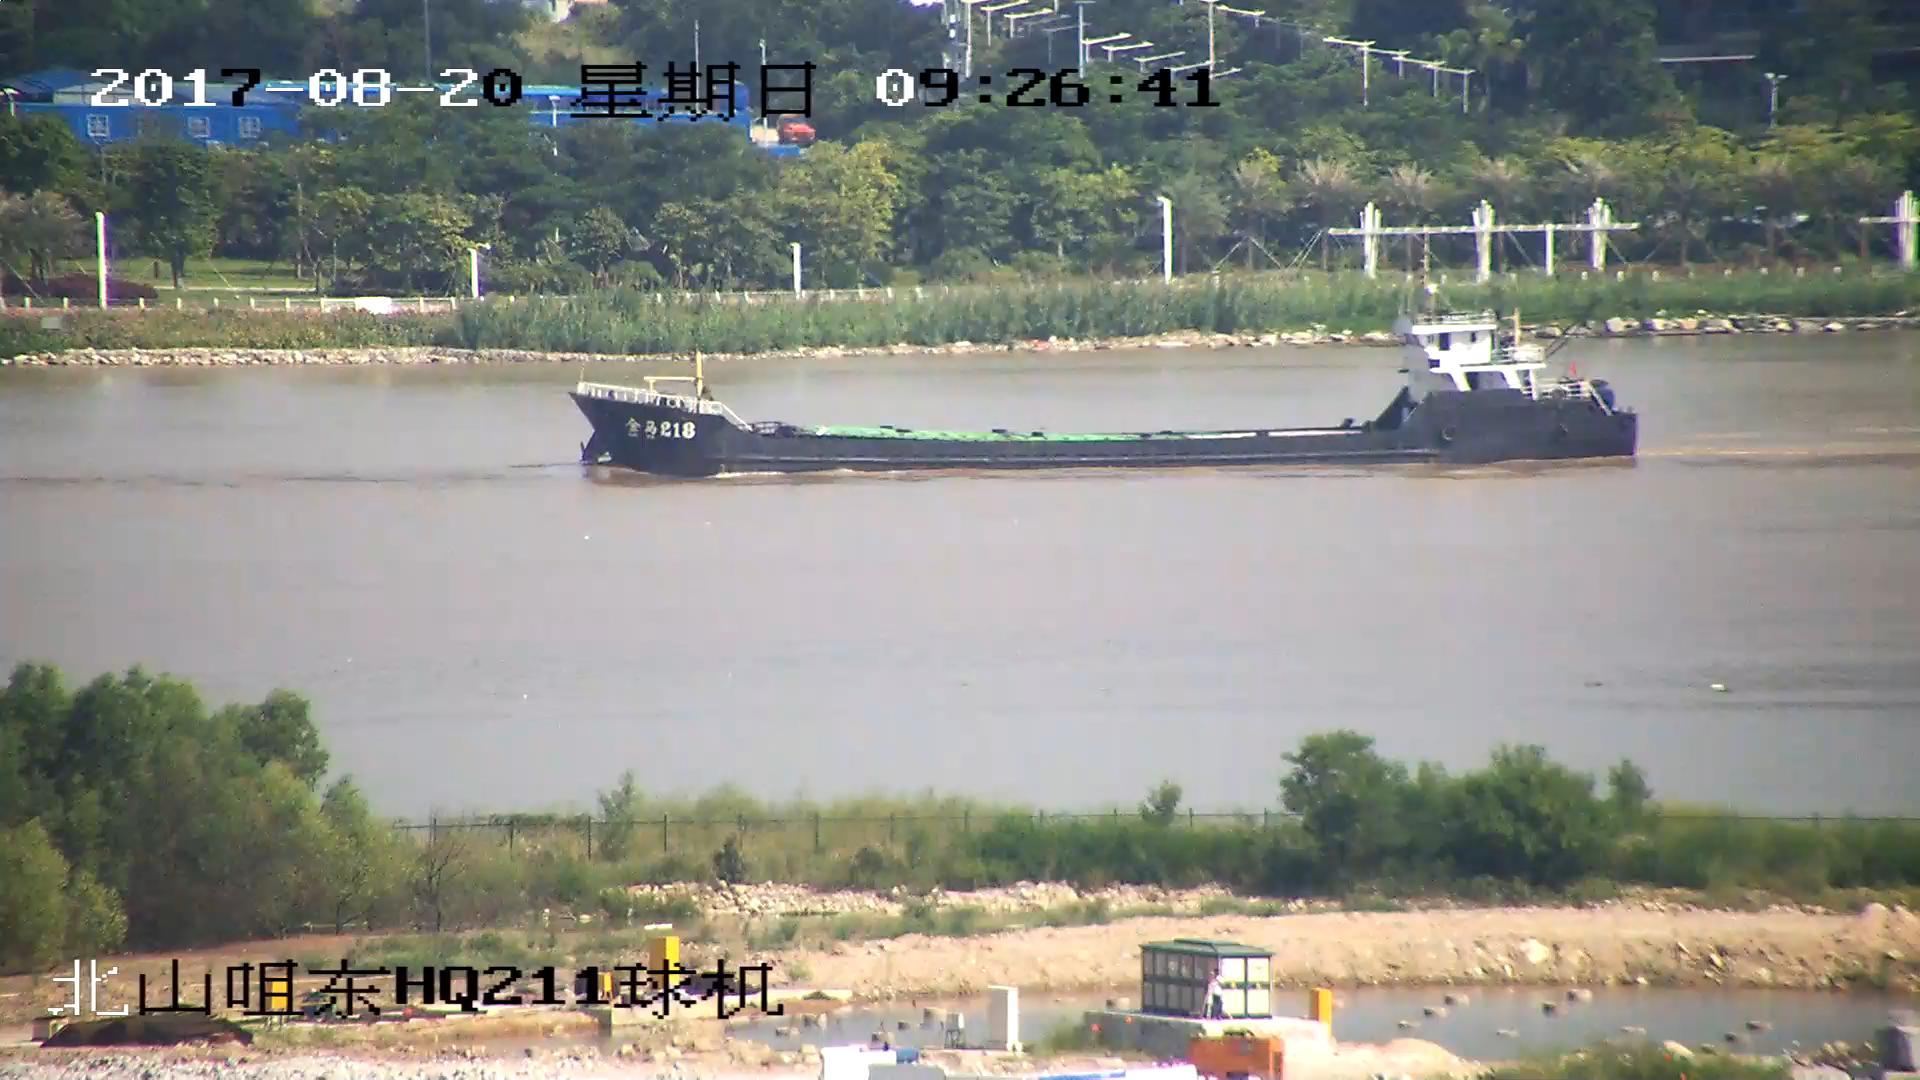Ship: (570, 307, 1638, 473)
